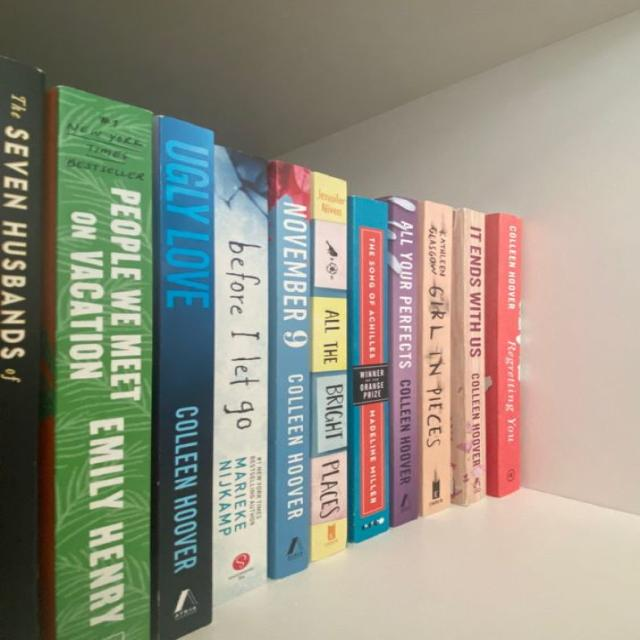book: (45, 86, 153, 639), (152, 116, 214, 639), (0, 56, 44, 639), (213, 145, 268, 609), (267, 161, 311, 579), (310, 172, 347, 562), (347, 196, 388, 542), (377, 197, 418, 526), (419, 202, 453, 517), (450, 209, 485, 506), (485, 214, 521, 497)
